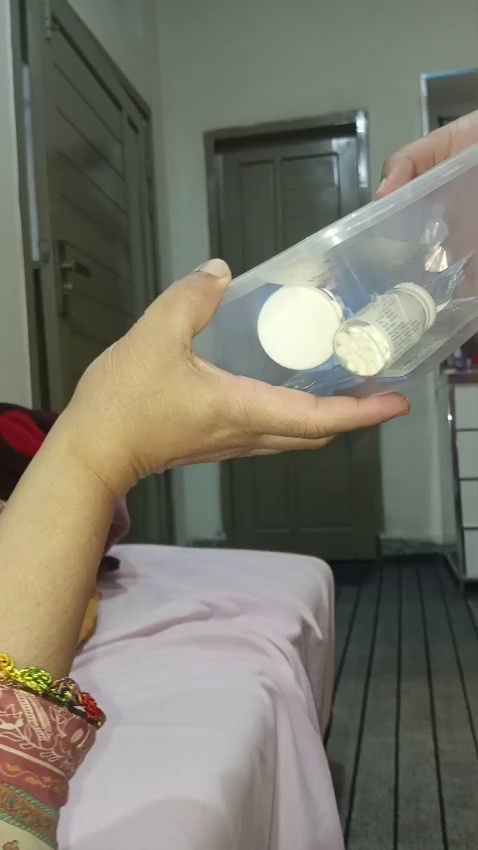medicine box: (177, 171, 472, 452)
